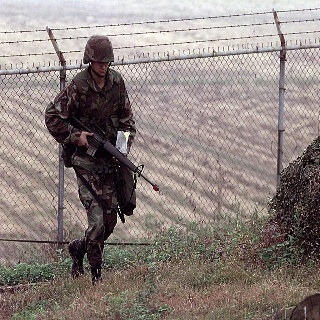rifle: (55, 108, 163, 193)
